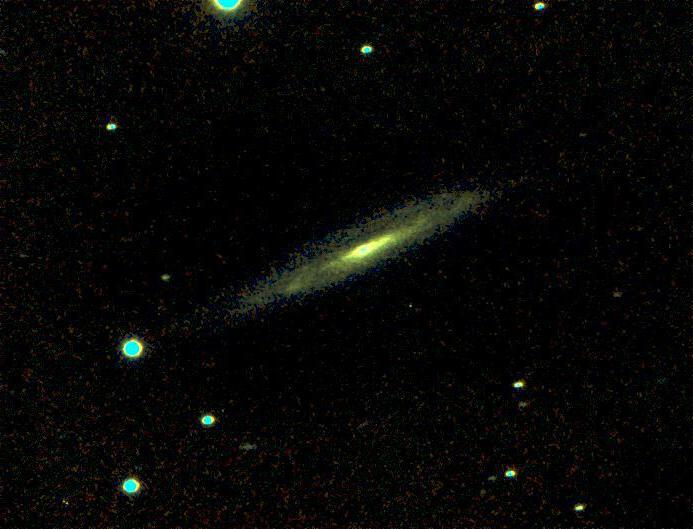star: (570, 119, 600, 149)
